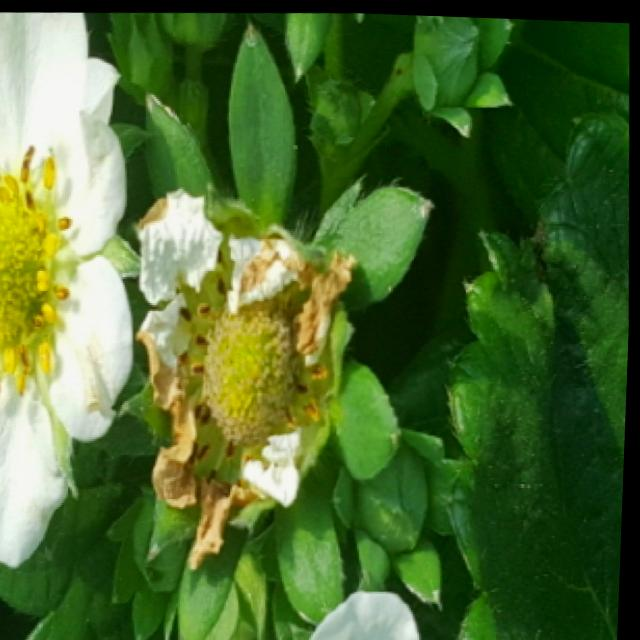Blossom Blight: (172, 243, 337, 491), (0, 136, 80, 410)
